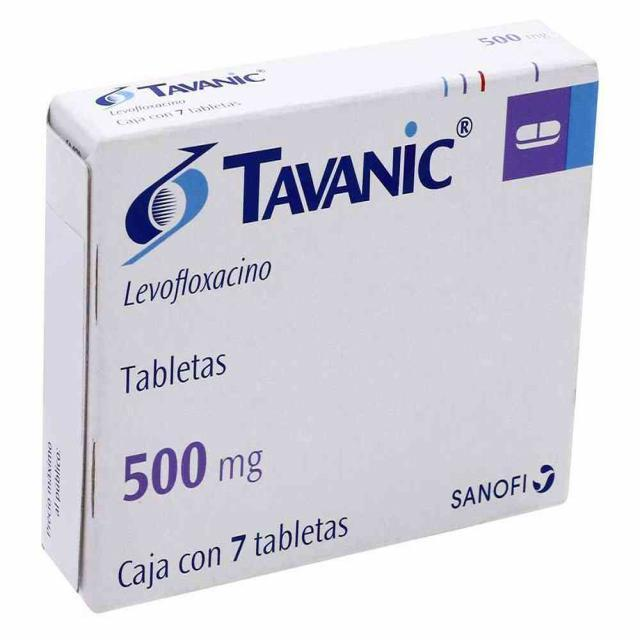drug-name: (219, 116, 458, 228)
